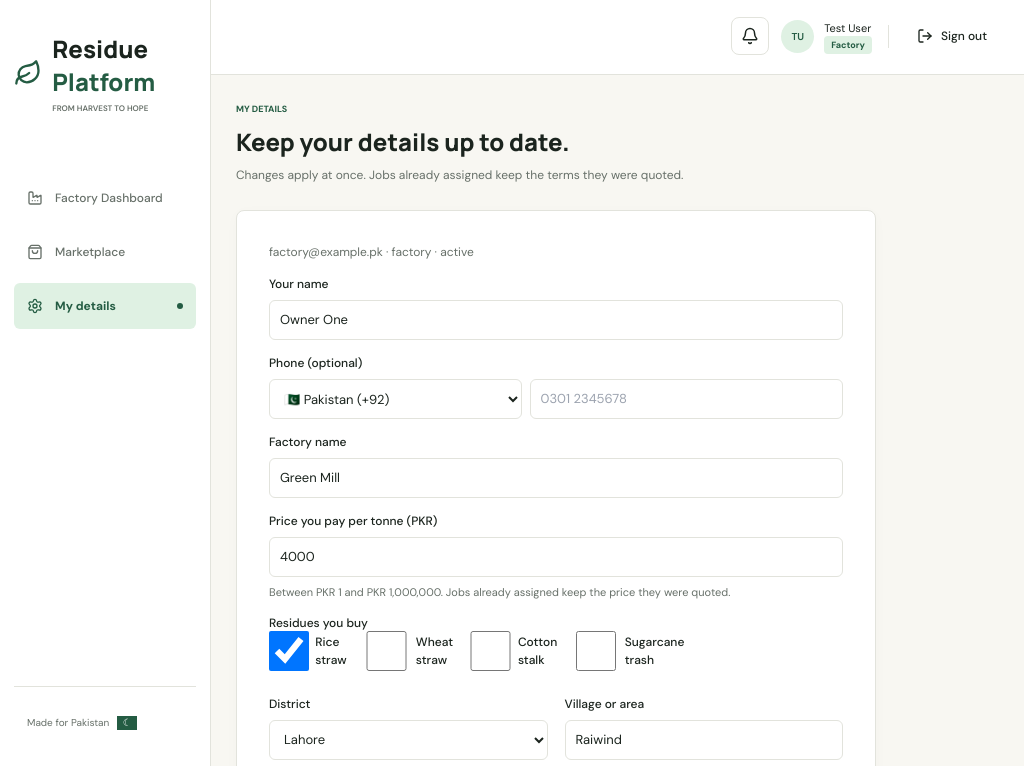
Test case: Settings: a factory edits its own details › sends only the fields that changed, then says it saved
The width and height of the screenshot is (1024, 766).
Expected: the field labelled "Factory name" is shown, x1=269 y1=458 x2=843 y2=498
Replace the text in the field labelled "Price you pay per tonne (PKR)" with "5000" at (556, 557), box x1=269 y1=537 x2=843 y2=577
(page scrolled)
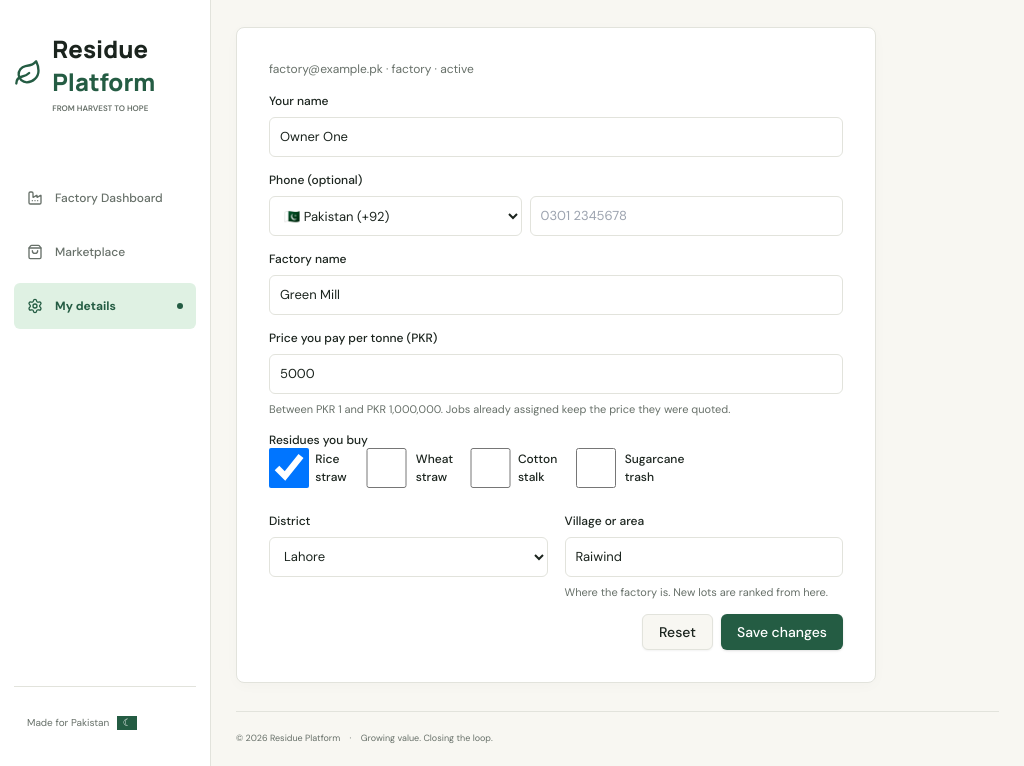
Click the button "Save changes" at (782, 632), box x1=721 y1=614 x2=843 y2=650
(page scrolled)
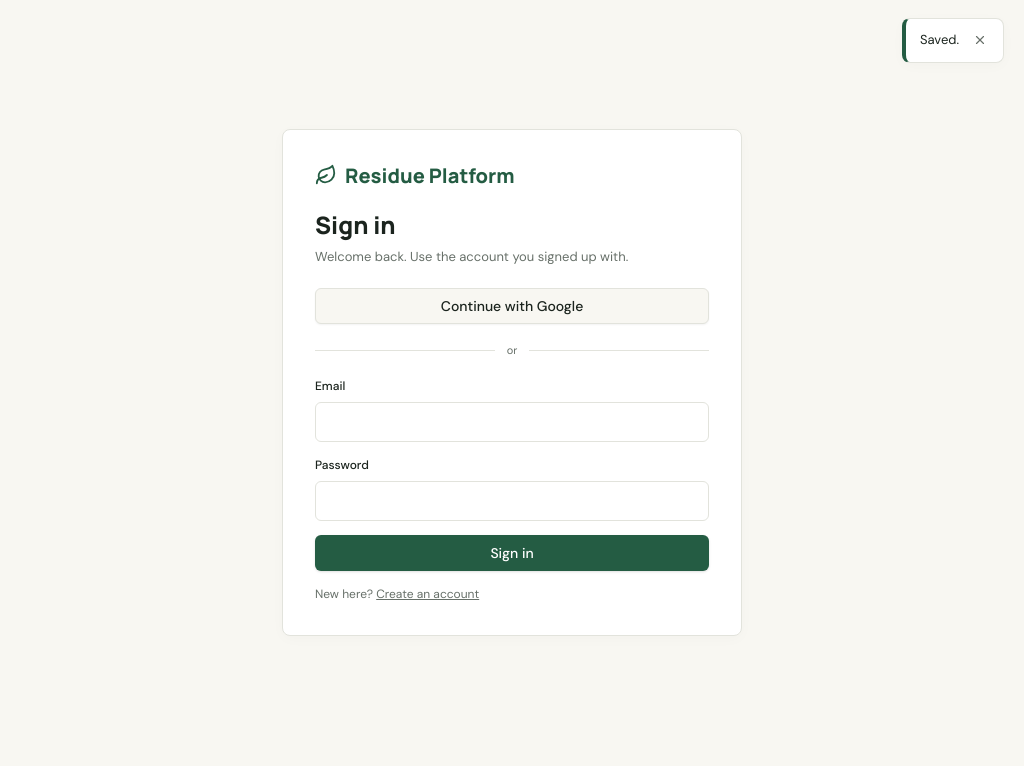
Expected: the text "Saved." is shown, x1=920 y1=31 x2=959 y2=50
